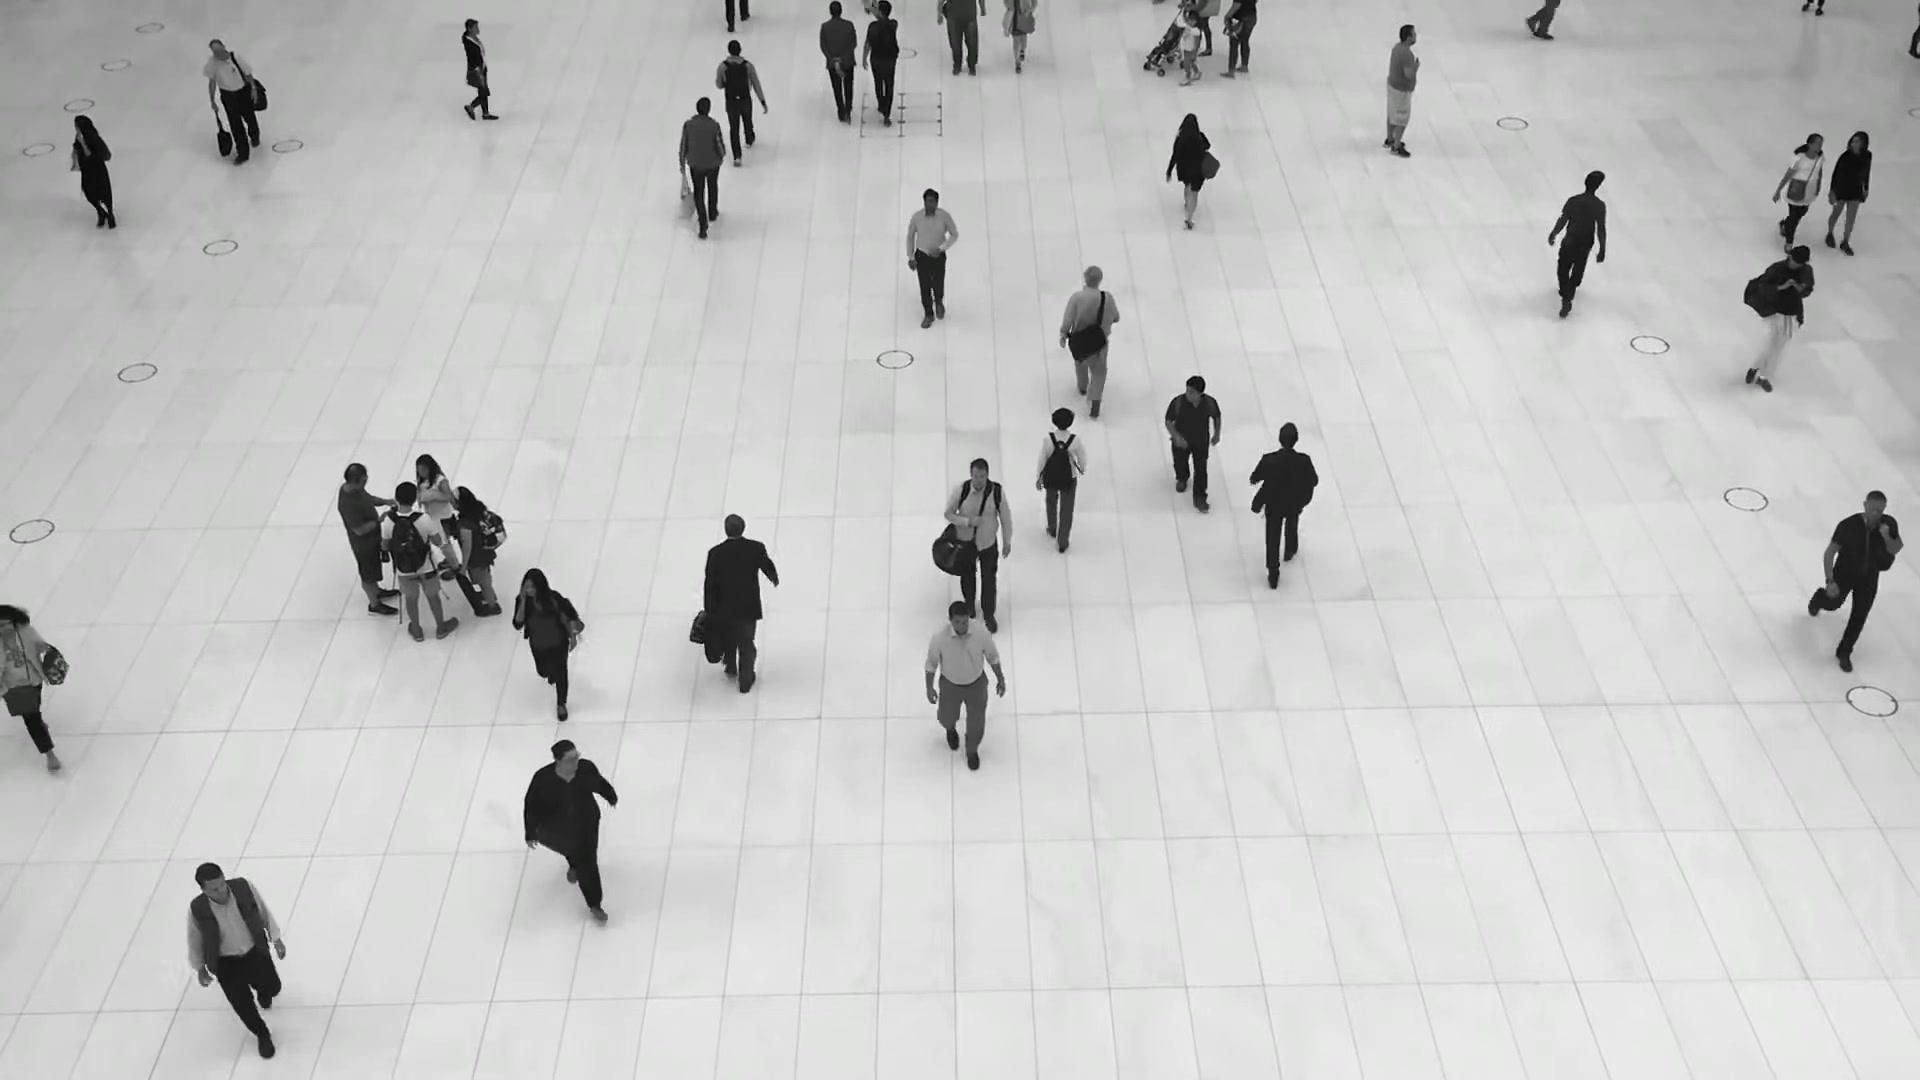person: (188, 864, 296, 1067), (524, 739, 618, 914), (1815, 487, 1904, 664), (921, 603, 1003, 787), (696, 515, 775, 710), (380, 481, 459, 641), (1250, 423, 1321, 596), (510, 569, 587, 726), (949, 462, 1015, 634), (1744, 247, 1814, 405), (0, 602, 61, 771), (337, 464, 400, 615), (1060, 263, 1123, 408), (905, 190, 962, 340), (1550, 167, 1608, 312), (1163, 377, 1224, 513), (1034, 410, 1085, 562), (202, 36, 260, 162), (450, 485, 502, 617), (677, 93, 727, 232), (1822, 132, 1873, 256), (1167, 111, 1221, 222), (716, 36, 764, 161), (1777, 132, 1827, 248), (70, 114, 118, 232), (459, 20, 514, 121), (415, 453, 459, 580), (1383, 24, 1421, 157), (819, 2, 858, 127), (863, 1, 899, 121), (1177, 12, 1201, 87)
